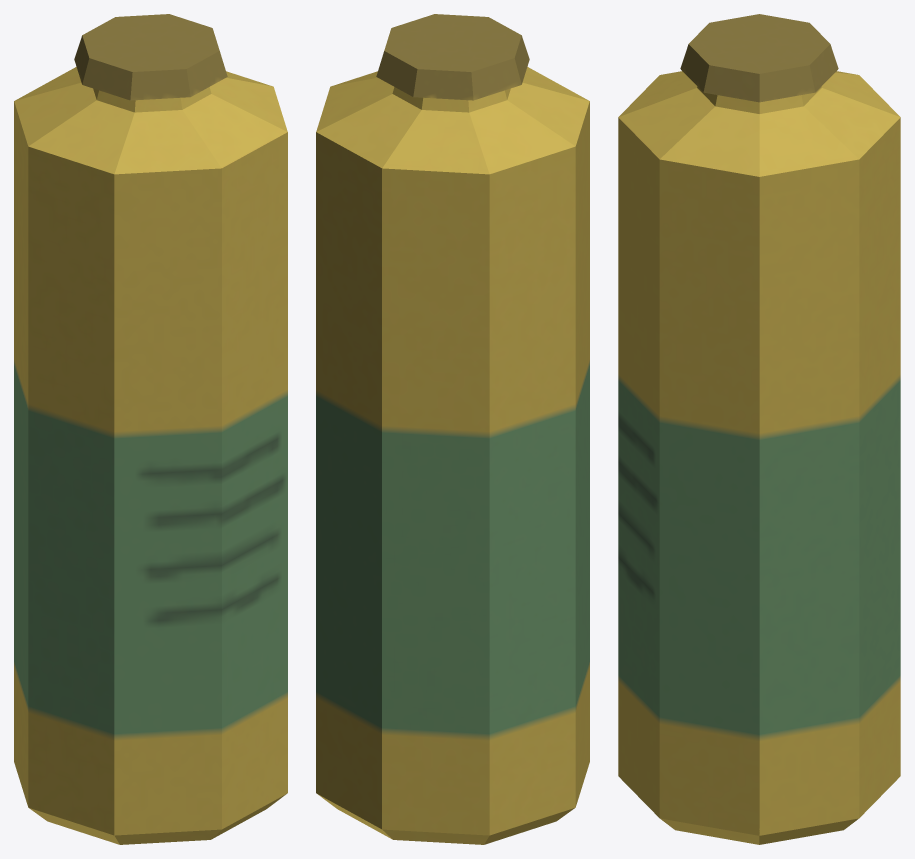
The model's file is SM_Food_10.fbx.
3 renders of one model, left to right at view 1: azimuth 30°, elevation 25°; view 2: azimuth 150°, elevation 25°; view 3: azimuth 270°, elevation 25°, orthographic.
Parts seen in each view (by area): view 1: SM_Food_10; view 2: SM_Food_10; view 3: SM_Food_10.
Part boxes in pixels (bbox=[...]): SM_Food_10: bbox=[14, 14, 287, 844]; SM_Food_10: bbox=[316, 14, 589, 844]; SM_Food_10: bbox=[618, 14, 900, 844].
Size of the model in its own units: 8.05 by 23.61 by 8.05.
